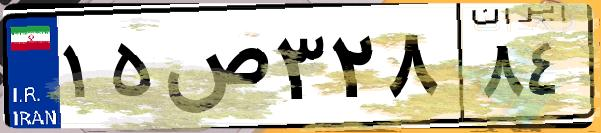1: (57, 26, 110, 100)
2: (330, 28, 385, 110)
3: (270, 28, 330, 110)
4: (525, 38, 570, 115)
5: (110, 28, 158, 98)
8: (385, 28, 445, 110), (475, 38, 525, 113)
ص: (158, 20, 270, 120)
